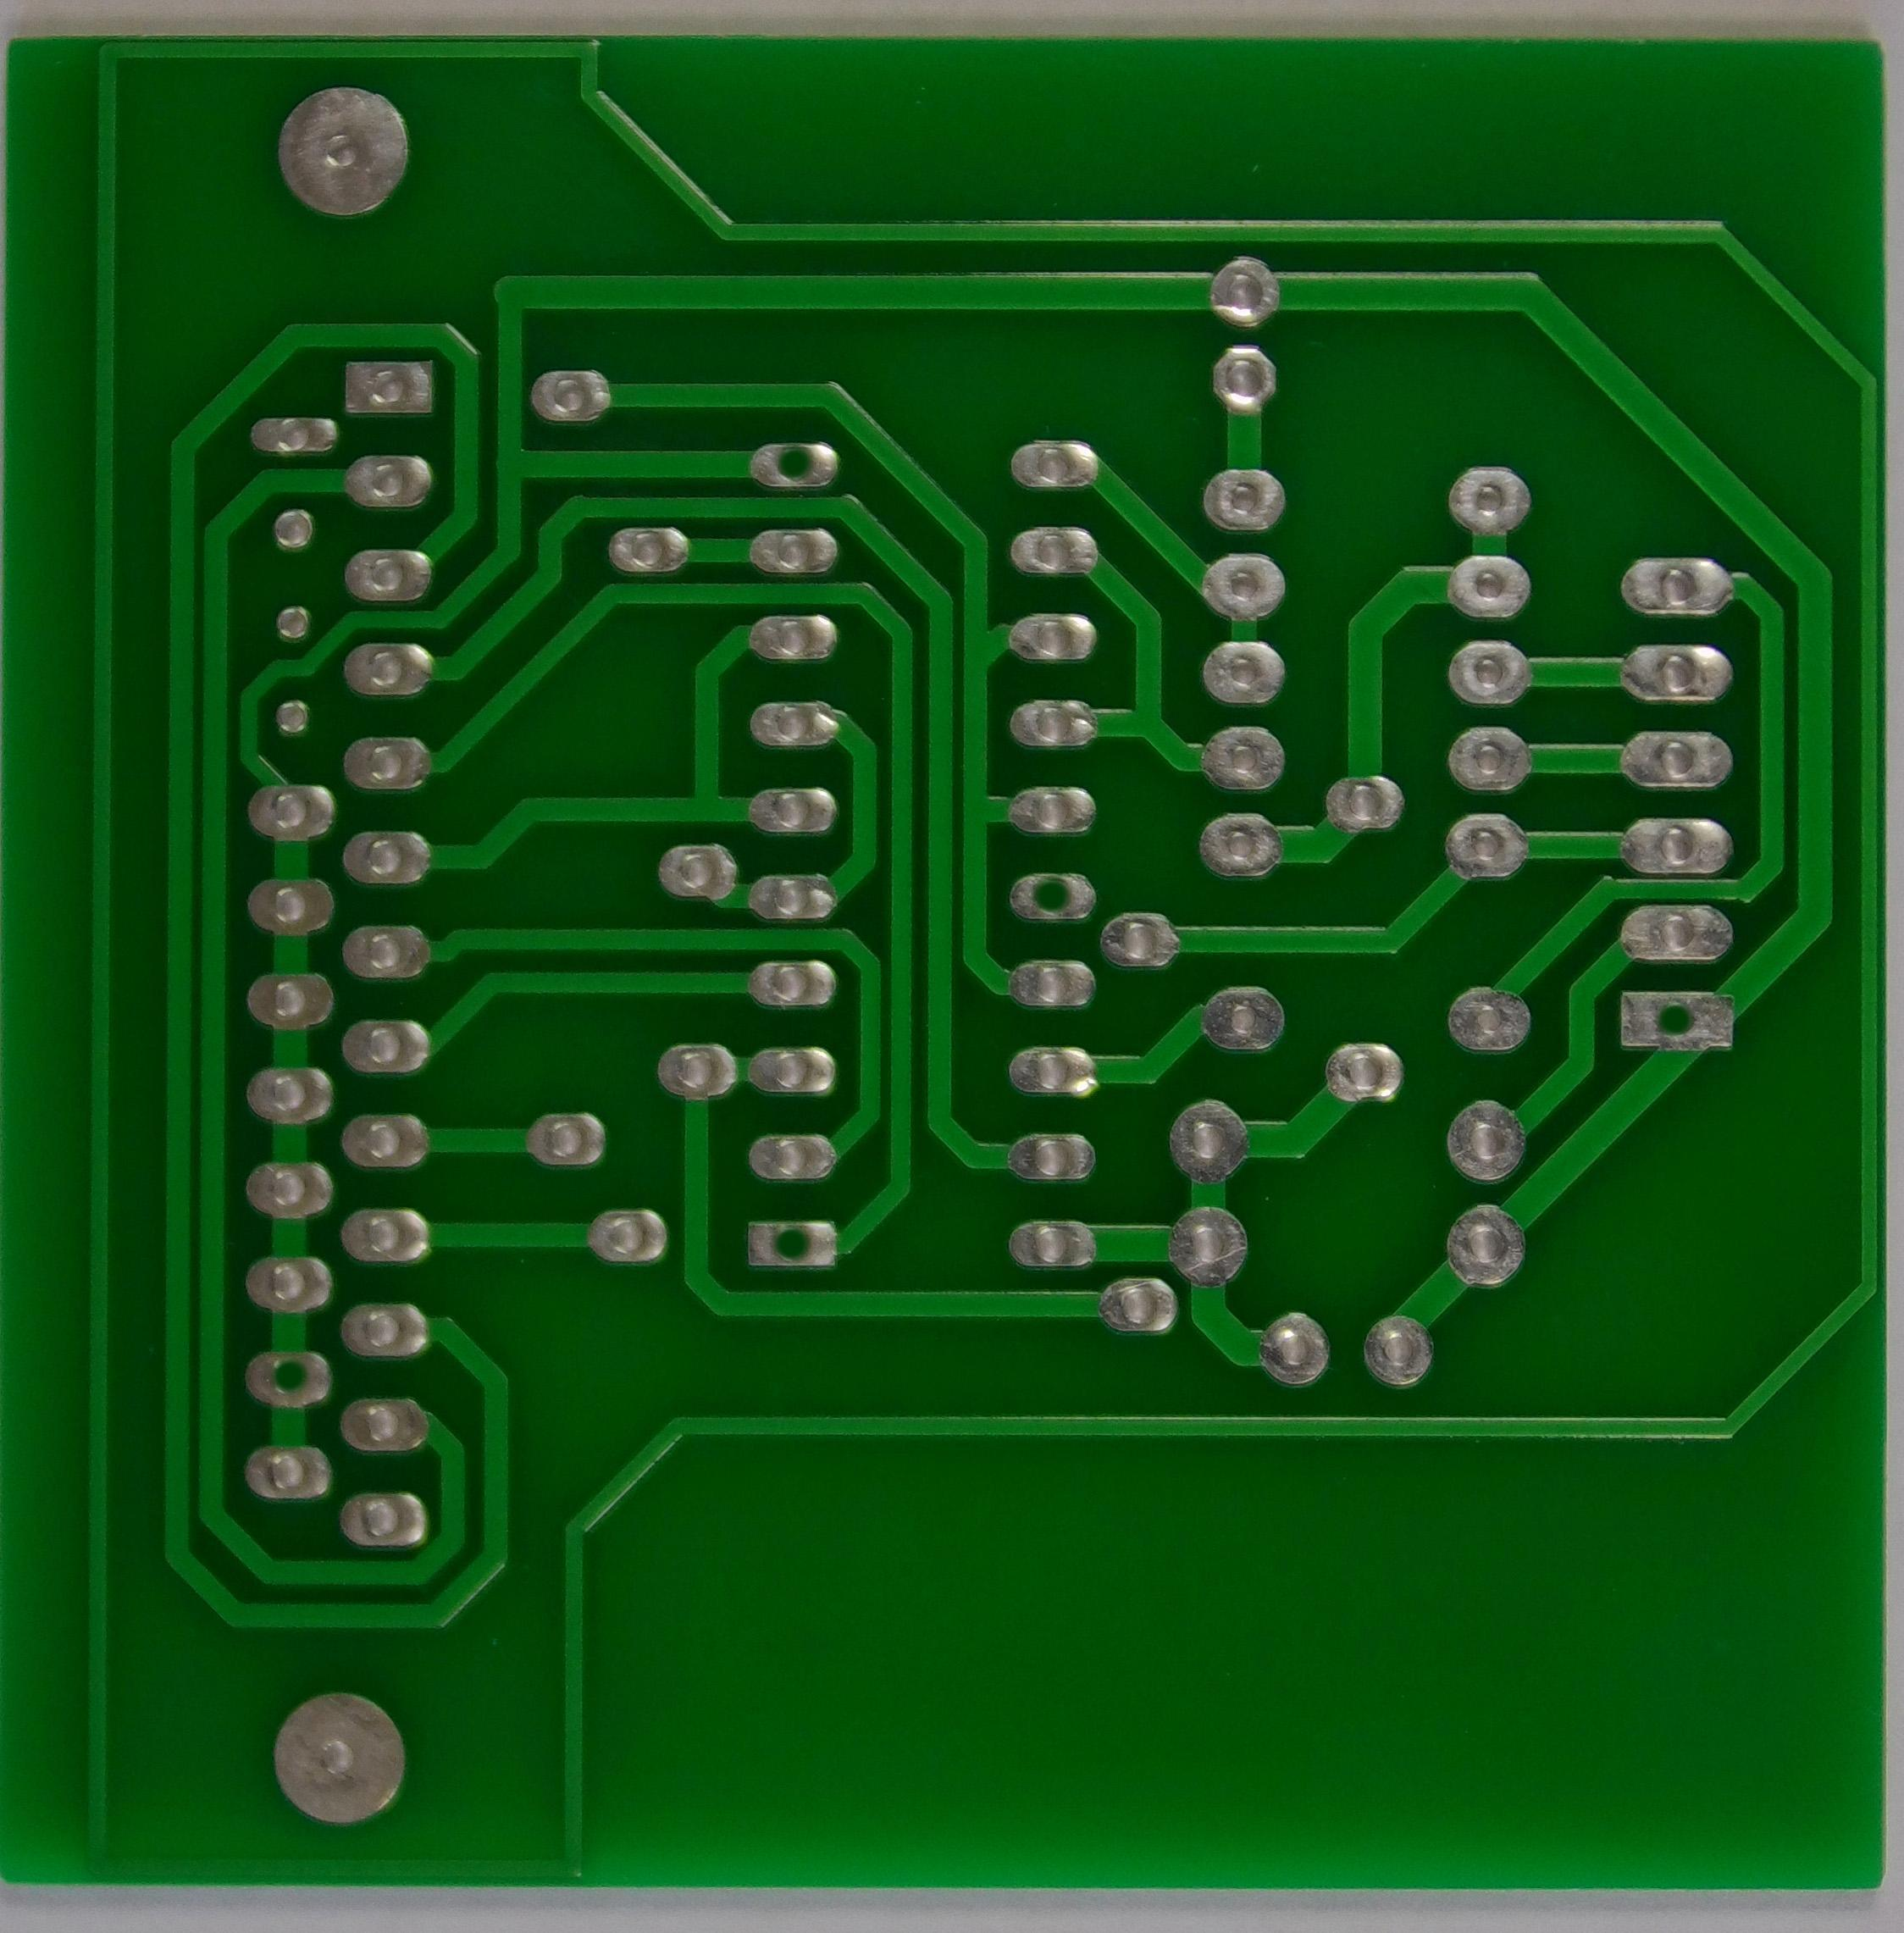missing_hole: (1611, 976, 1740, 1060), (731, 1211, 847, 1271), (743, 431, 835, 495), (1008, 868, 1100, 933), (241, 1346, 330, 1408)
